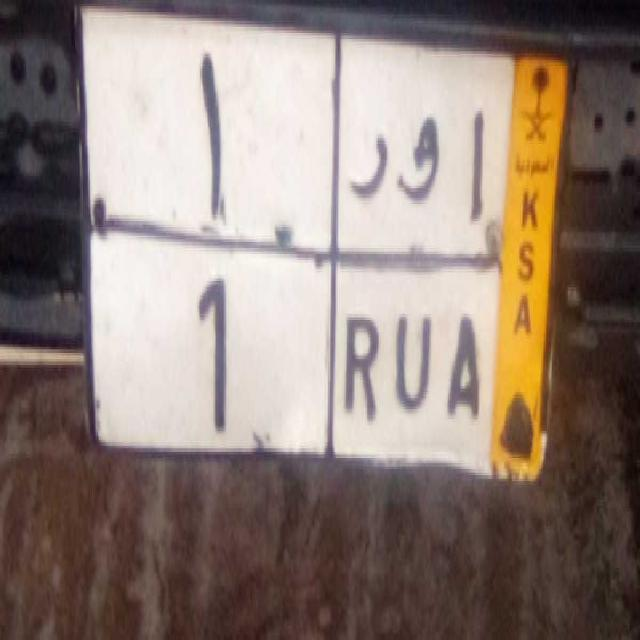license_plate: (94, 228, 494, 482)
